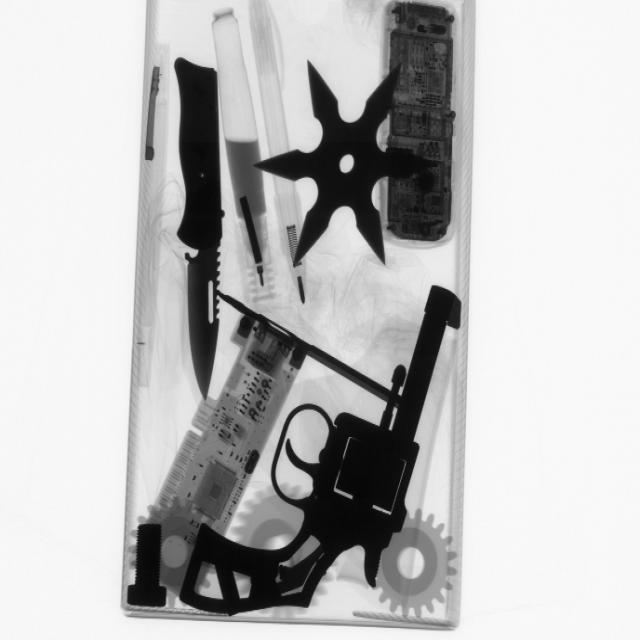GUN: (171, 282, 461, 627)
KNIFE: (161, 54, 237, 393)
SHURIKEN: (261, 53, 432, 269)
